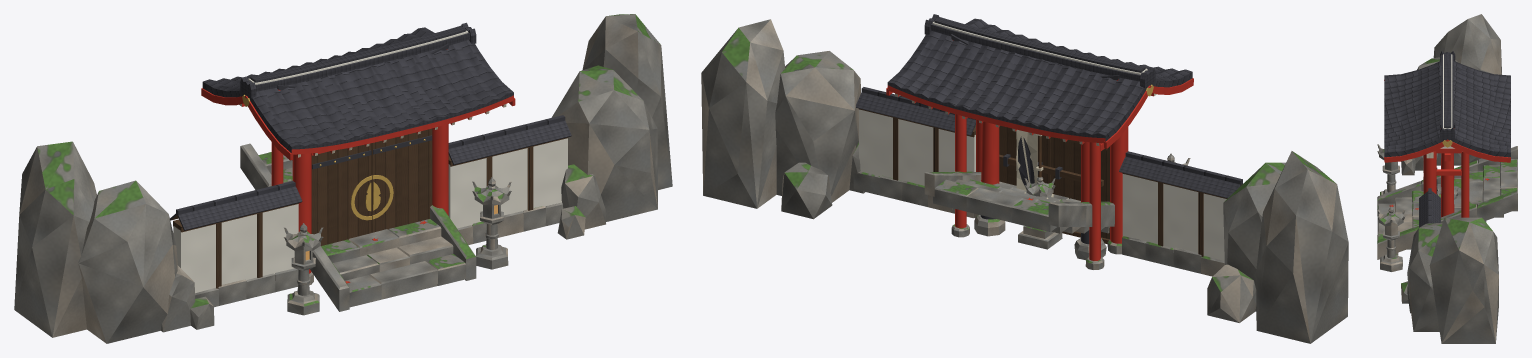
The model's file is jura_batch_B.glb.
3 renders of one model, left to right at view 1: azimuth 30°, elevation 25°; view 2: azimuth 150°, elevation 25°; view 3: azimuth 270°, elevation 25°, orthographic. The views are drawn at different scales.
Visible parts, largest first — view 1: tengu_gate_Rock, tengu_gate_Roof, tengu_gate_Plaster, stone_stairs_Stone, tengu_gate_Stone, tengu_gate_DoorR, tengu_gate_DoorL, tengu_gate_Lacquer, tengu_gate_Wood; view 2: tengu_gate_Rock, tengu_gate_Roof, tengu_gate_Plaster, stone_stairs_Stone, tengu_gate_Lacquer, tengu_gate_Stone, tengu_gate_Wood, tengu_gate_DoorL, torii_Lacquer, tengu_gate_DoorR, tengu_banner_Cloth, torii_Stone (+1 smaller); view 3: tengu_gate_Rock, tengu_gate_Roof, stone_stairs_Stone, tengu_gate_Lacquer, tengu_gate_Stone, torii_Lacquer, tengu_gate_Plaster.
Boxes of the visible parts, x1=… form: tengu_gate_Rock: x1=14, y1=14, x2=672, y2=343; tengu_gate_Roof: x1=170, y1=22, x2=571, y2=230; tengu_gate_Plaster: x1=173, y1=30, x2=567, y2=293; stone_stairs_Stone: x1=240, y1=143, x2=476, y2=311; tengu_gate_Stone: x1=195, y1=177, x2=563, y2=315; tengu_gate_DoorR: x1=371, y1=128, x2=432, y2=232; tengu_gate_DoorL: x1=311, y1=143, x2=371, y2=245; tengu_gate_Lacquer: x1=201, y1=88, x2=515, y2=273; tengu_gate_Wood: x1=173, y1=137, x2=568, y2=288; tengu_gate_Rock: x1=701, y1=19, x2=1348, y2=343; tengu_gate_Roof: x1=856, y1=14, x2=1243, y2=198; tengu_gate_Plaster: x1=859, y1=21, x2=1226, y2=260; stone_stairs_Stone: x1=924, y1=171, x2=1114, y2=233; tengu_gate_Lacquer: x1=886, y1=78, x2=1193, y2=260; tengu_gate_Stone: x1=853, y1=153, x2=1224, y2=276; tengu_gate_Wood: x1=858, y1=108, x2=1227, y2=256; tengu_gate_DoorL: x1=1051, y1=137, x2=1109, y2=239; torii_Lacquer: x1=953, y1=40, x2=1118, y2=202; tengu_gate_DoorR: x1=999, y1=125, x2=1050, y2=185; tengu_banner_Cloth: x1=1016, y1=129, x2=1037, y2=190; torii_Stone: x1=974, y1=214, x2=1106, y2=260; tengu_gate_Rock: x1=1401, y1=14, x2=1501, y2=343; tengu_gate_Roof: x1=1384, y1=51, x2=1510, y2=227; stone_stairs_Stone: x1=1377, y1=146, x2=1517, y2=259; tengu_gate_Lacquer: x1=1384, y1=80, x2=1510, y2=217; tengu_gate_Stone: x1=1377, y1=144, x2=1423, y2=271; torii_Lacquer: x1=1440, y1=128, x2=1454, y2=217; tengu_gate_Plaster: x1=1440, y1=54, x2=1454, y2=148.
Bounding box in the file's own units: 74.87 × 23 × 20.04.
1 material, 1 textured.
